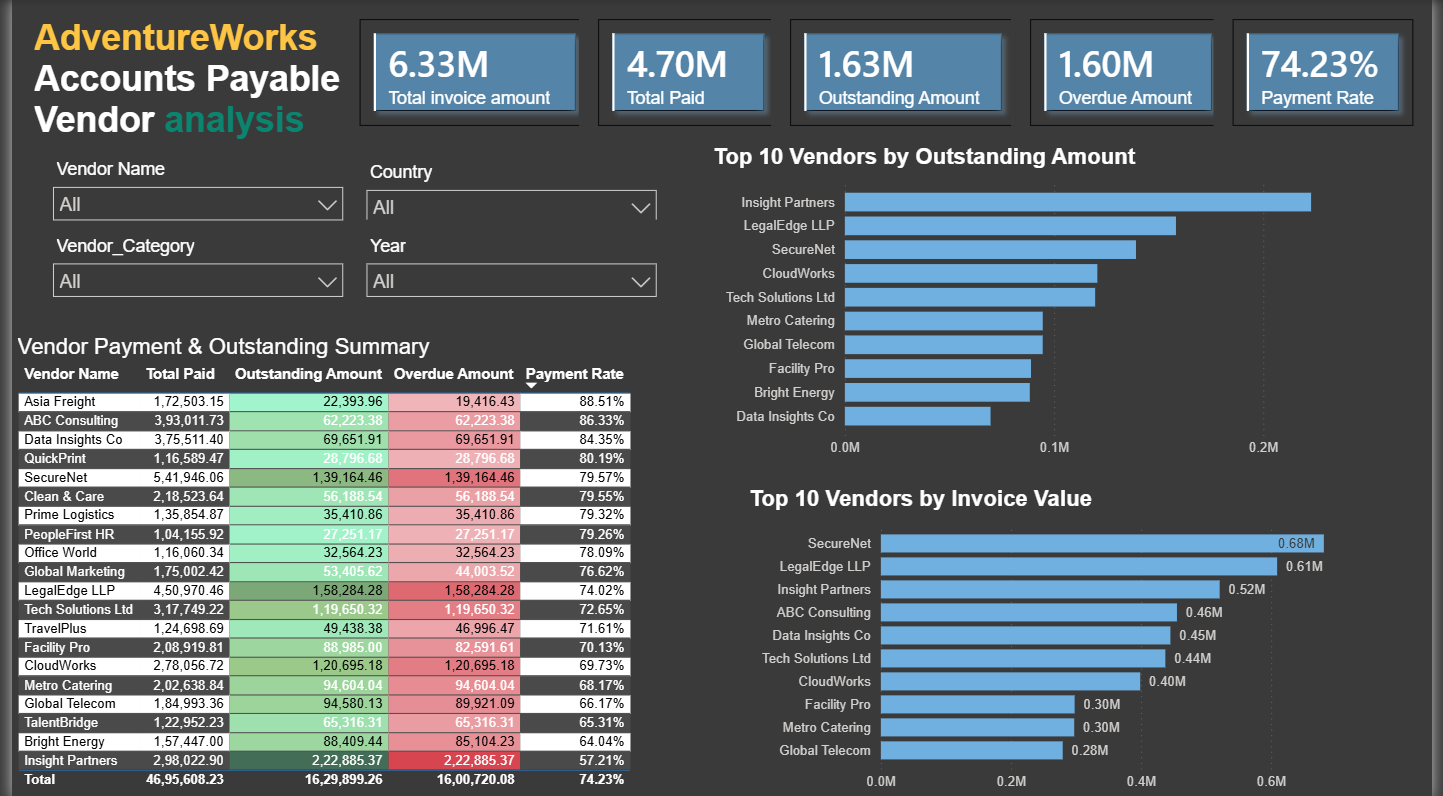

This screenshot's page, from the dashboard's own definition file:
{"tool":"powerbi","page":{"name":"Vendor Analysis","canvas":[1280,720],"ordinal":1},"visuals":[{"type":"clusteredBarChart","title":"Top 10 Vendors by Invoice Value","fields":{"Category":["Dim_Vendor.Vendor_Name"],"Y":["Fact_Invoice.Total invoice amount"]},"box":[660.2,437.6,579.9,281.6],"z":0},{"type":"clusteredBarChart","title":"Top 10 Vendors by Outstanding Amount","fields":{"Category":["Dim_Vendor.Vendor_Name"],"Y":["Fact_Invoice.Total Outstanding"]},"box":[626.9,130.2,613.3,289.2],"z":1000},{"type":"tableEx","title":"Vendor Payment & Outstanding Summary","fields":{"Values":["Dim_Vendor.Vendor_Name","Fact_Invoice.Total Paid","Fact_Invoice.Total Outstanding","Fact_Invoice.Overdue Amount","Fact_Invoice.Payment Rate"]},"box":[0,301.3,648.1,417.9],"z":2000},{"type":"cardVisual","fields":{"Data":["Fact_Invoice.Total invoice amount"]},"box":[295.7,0,242.9,130],"z":3000},{"type":"cardVisual","fields":{"Data":["Fact_Invoice.Total Paid"]},"box":[511.4,0,197.1,130],"z":4000},{"type":"cardVisual","fields":{"Data":["Fact_Invoice.Total Outstanding"]},"box":[684.3,0,238.6,130],"z":5000},{"type":"cardVisual","fields":{"Data":["Fact_Invoice.Overdue Amount"]},"box":[900,0,211.4,130],"z":6000},{"type":"slicer","fields":{"Values":["Dim_Vendor.Vendor_Name"]},"box":[27.3,137.8,281.6,63.6],"z":7000},{"type":"slicer","fields":{"Values":["Dim_Vendor.Country"]},"box":[308.9,140.8,281.6,57.5],"z":8000},{"type":"slicer","fields":{"Values":["Dim_Vendor.Vendor_Category"]},"box":[27.3,207.4,281.6,63.6],"z":9000},{"type":"slicer","fields":{"Values":["Dim_Date.Year"]},"box":[308.9,207.4,281.6,69.7],"z":10000},{"type":"cardVisual","fields":{"Data":["Fact_Invoice.Payment Rate"]},"box":[1082.9,0,197.1,130],"z":11000},{"type":"textbox","box":[14.3,11.4,310,125.7],"z":12000}]}

Visuals, with their boxes in screenshot pixels (x1, y1, x2, y2), scaled from the page's 1280x720 canvas onto the 1443x796 screenshot:
"Top 10 Vendors by Invoice Value" clusteredBarChart: select_region(744, 484, 1398, 795)
"Top 10 Vendors by Outstanding Amount" clusteredBarChart: select_region(707, 144, 1398, 464)
"Vendor Payment & Outstanding Summary" tableEx: select_region(0, 333, 731, 795)
cardVisual - Fact_Invoice.Total invoice amount: select_region(333, 0, 607, 144)
cardVisual - Fact_Invoice.Total Paid: select_region(577, 0, 799, 144)
cardVisual - Fact_Invoice.Total Outstanding: select_region(771, 0, 1040, 144)
cardVisual - Fact_Invoice.Overdue Amount: select_region(1015, 0, 1253, 144)
slicer - Dim_Vendor.Vendor_Name: select_region(31, 152, 348, 223)
slicer - Dim_Vendor.Country: select_region(348, 156, 666, 219)
slicer - Dim_Vendor.Vendor_Category: select_region(31, 229, 348, 300)
slicer - Dim_Date.Year: select_region(348, 229, 666, 306)
cardVisual - Fact_Invoice.Payment Rate: select_region(1221, 0, 1442, 144)
textbox: select_region(16, 13, 366, 152)
